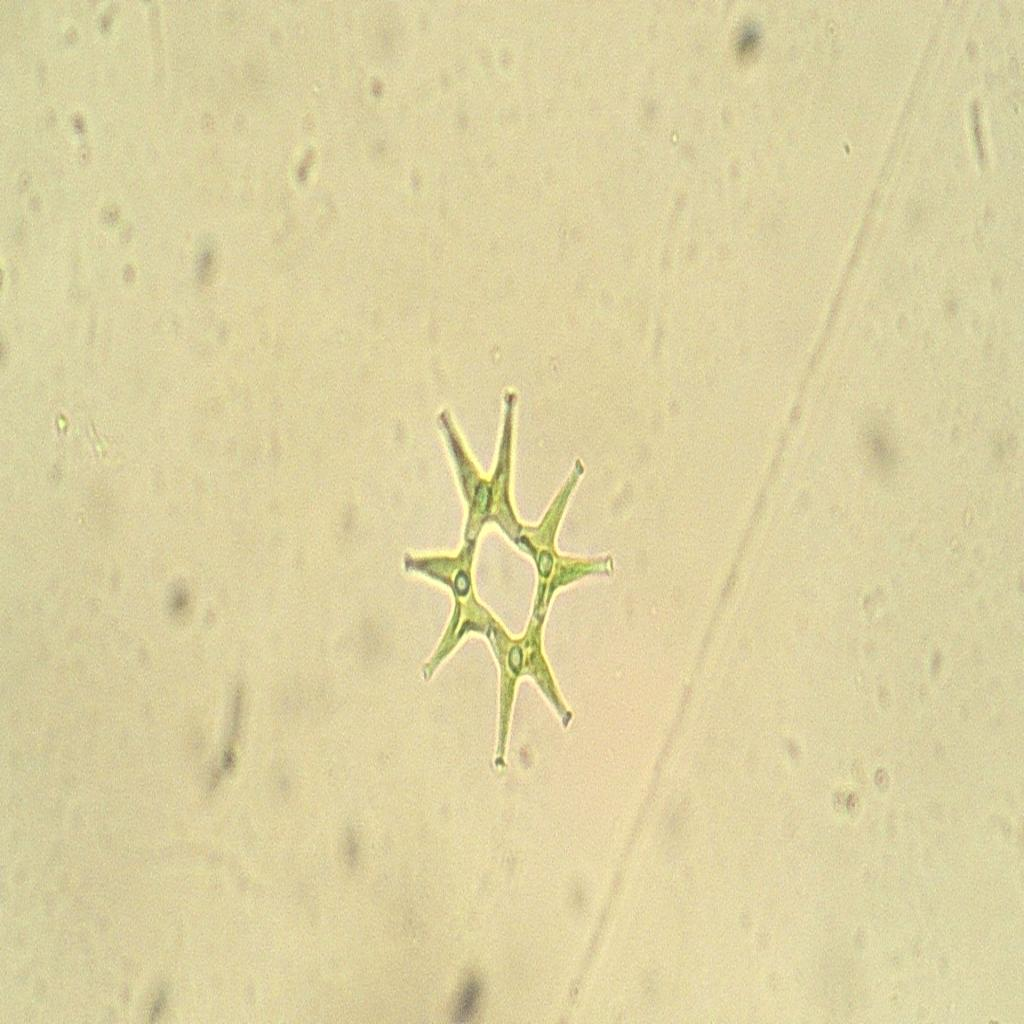Pediastrum_10: (390, 353, 624, 800)
